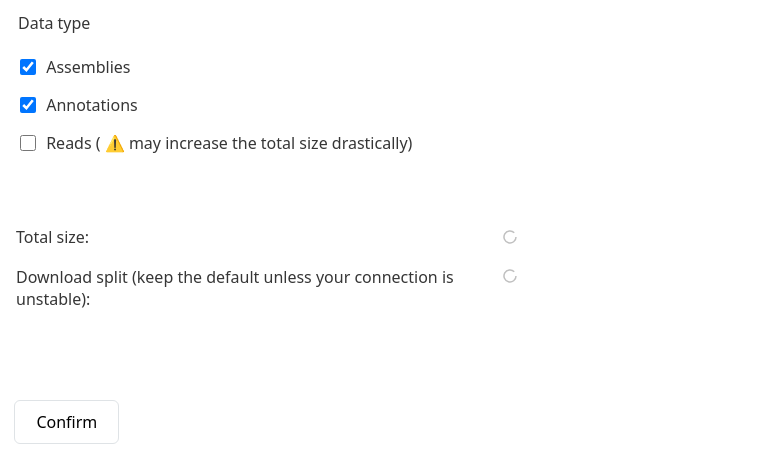
on form submit › shows the loading indicator
Click the button "Confirm". click: (67, 422)
box: [14, 400, 119, 444]
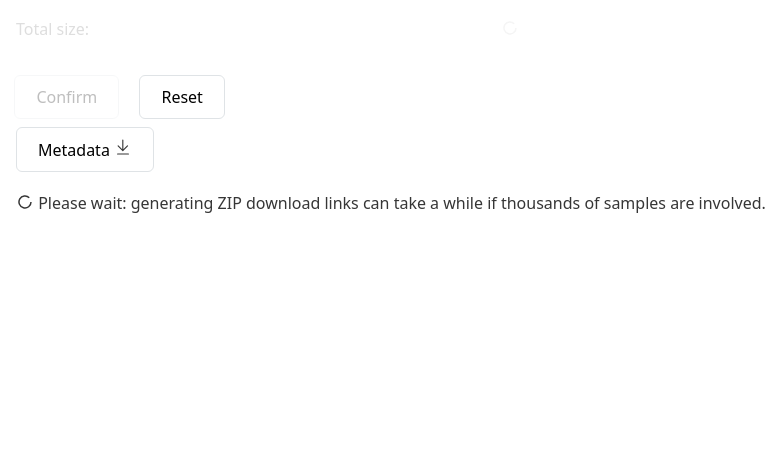
Now the element named "Please wait: generating ZIP download links can take a while if thousands of samples are involved." is shown, box [16, 192, 766, 214]
